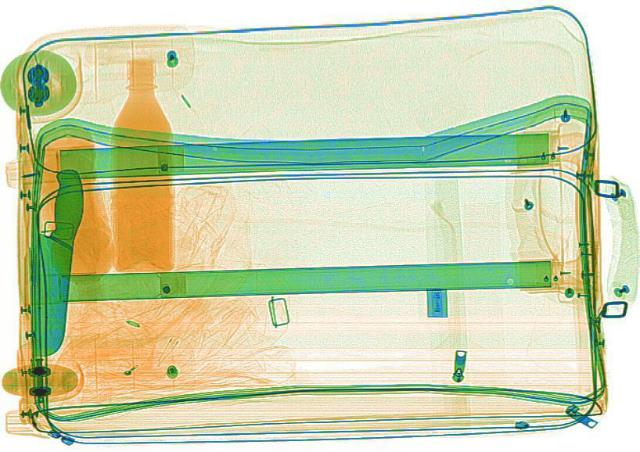Knife: (22, 166, 84, 353)
